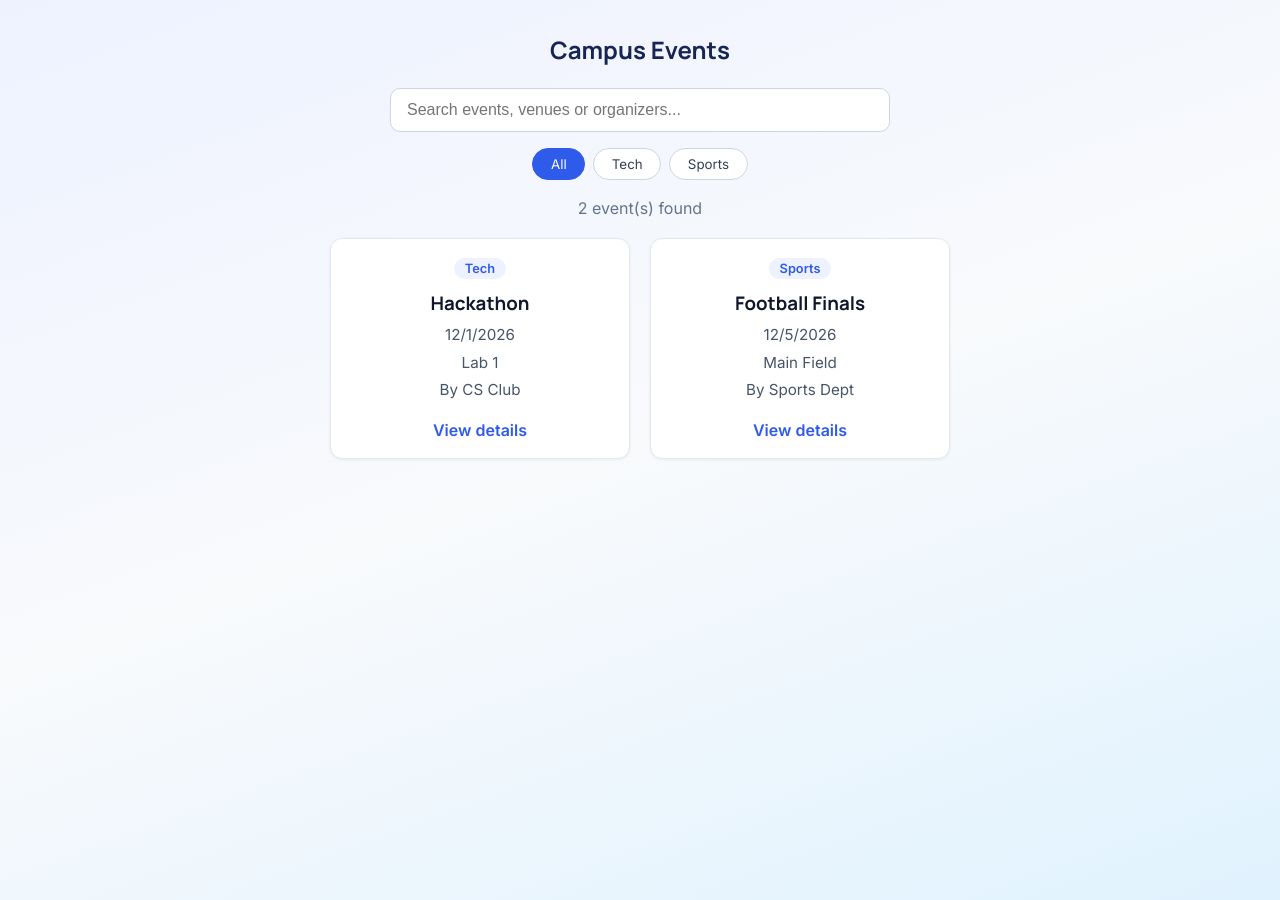
Events page › category button filters events
Check: the heading "Hackathon" is shown, box [430,290,529,316]
Click the button "Sports" at (708, 164), box [669,148,748,180]
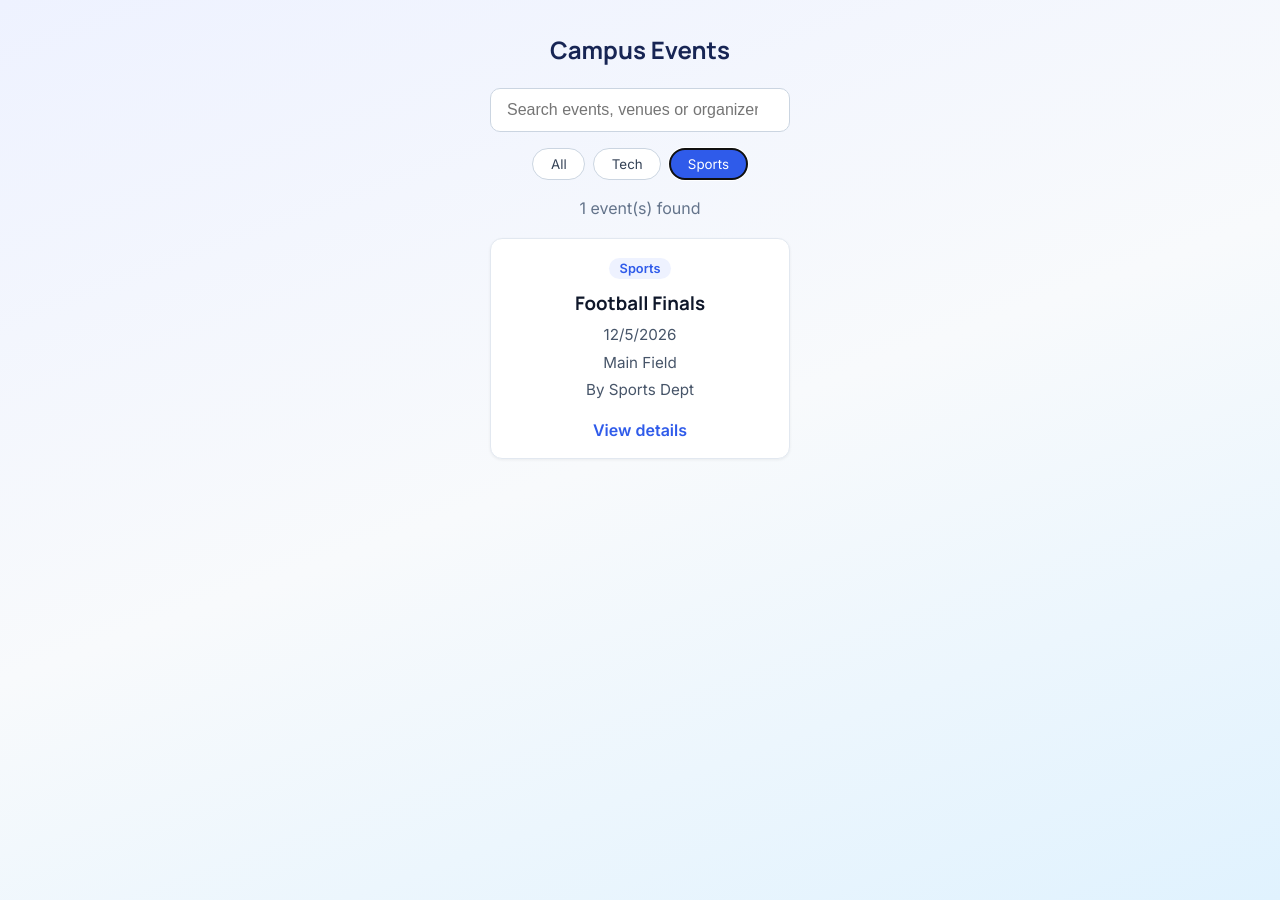
Check: the heading "Football Finals" is shown, box [575,290,705,316]
Check: the heading "Hackathon" is gone
